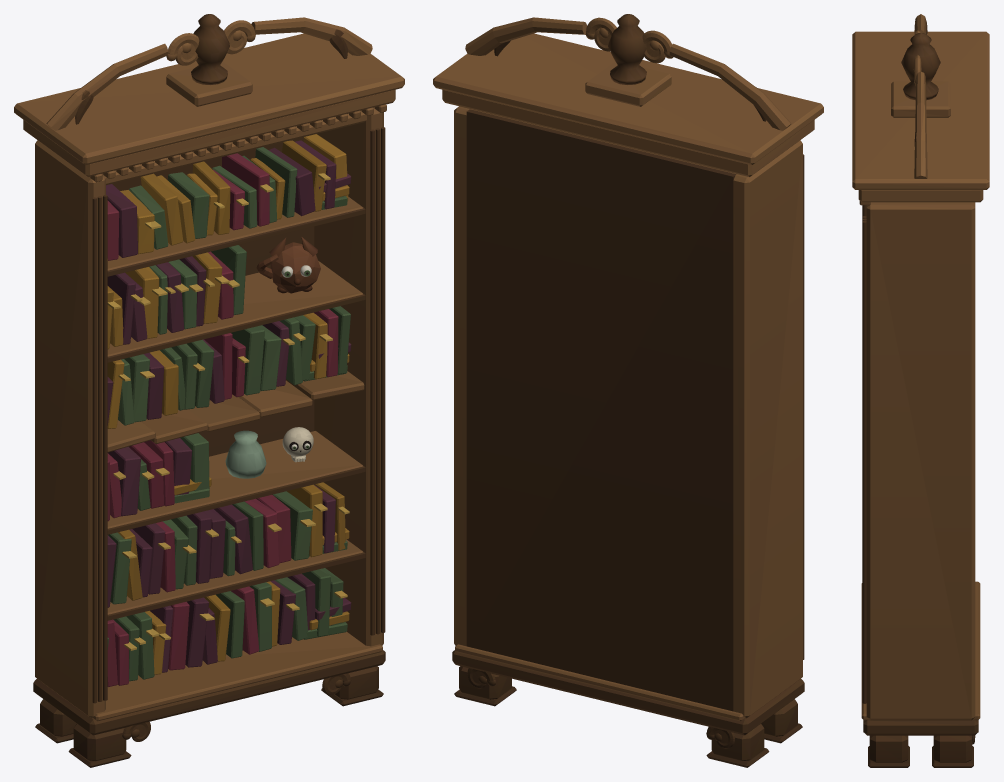
File: bookcase-tall.glb
3 views of the same model, side by side, from view 1: azimuth 30°, elevation 25°; view 2: azimuth 150°, elevation 25°; view 3: azimuth 270°, elevation 25° (orthographic). The views are drawn at different scales.
Parts seen in each view (by area): view 1: bookcase_tall; view 2: bookcase_tall; view 3: bookcase_tall.
Boxes of the visible parts, <box> form: bookcase_tall: <box>14,14,404,767</box>; bookcase_tall: <box>433,14,823,767</box>; bookcase_tall: <box>852,14,989,767</box>.
Size of the model in its own units: 1.12 by 2.3 by 0.43.
